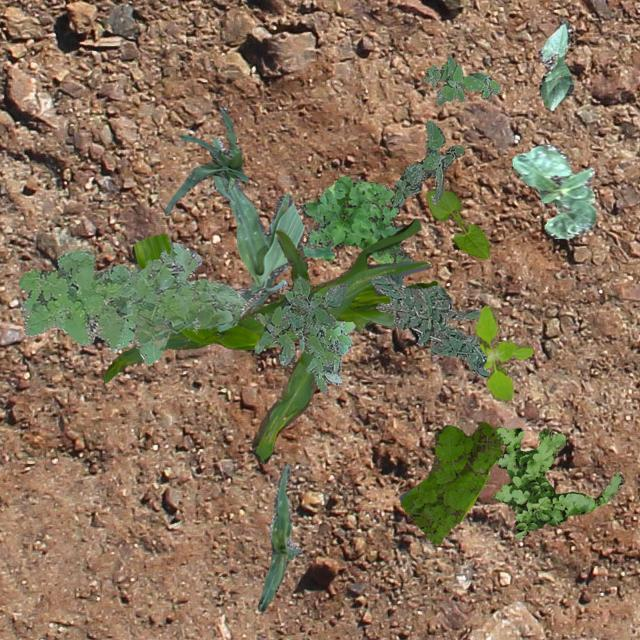crop: (102, 218, 436, 462), (212, 136, 302, 316), (164, 104, 246, 214), (512, 142, 594, 238), (256, 462, 302, 610), (424, 187, 488, 257), (536, 19, 572, 110)
weed: (18, 242, 246, 364), (492, 426, 624, 536), (398, 421, 502, 544), (369, 273, 488, 377), (252, 278, 354, 390), (298, 175, 412, 264), (388, 118, 464, 205), (472, 304, 532, 400), (422, 56, 499, 104), (280, 276, 348, 330)
